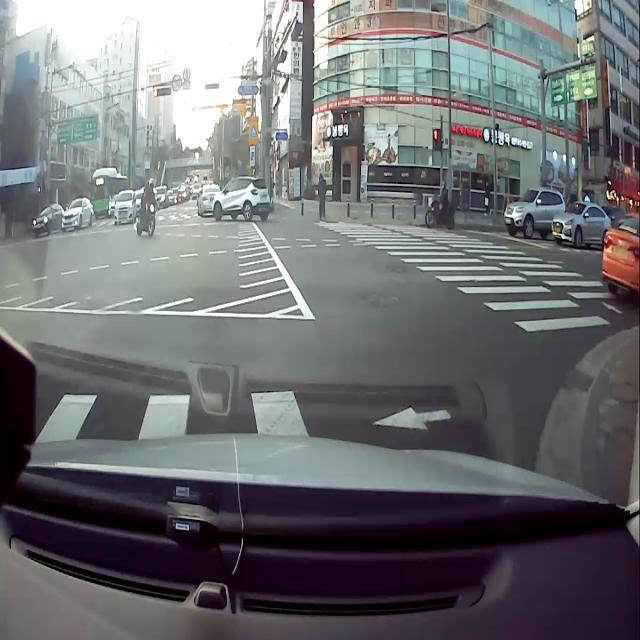Red Light: (153, 87, 158, 97)
